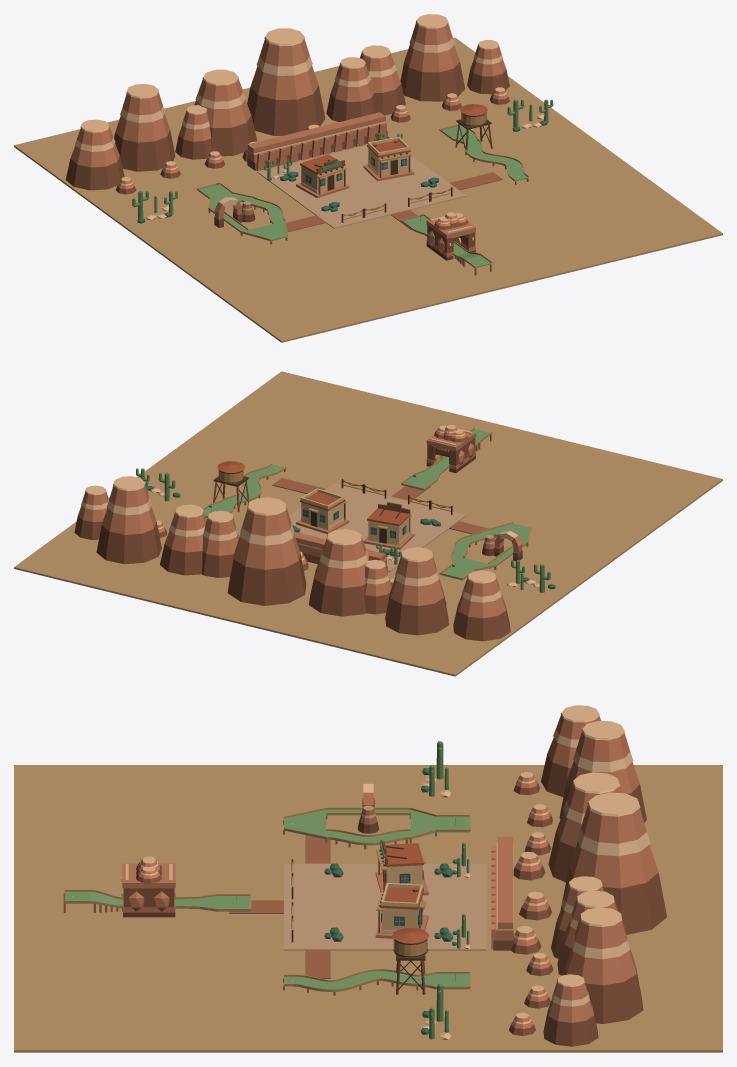
File: district.glb
3 views of the same model, one above another, from view 1: azimuth 30°, elevation 25°; view 2: azimuth 150°, elevation 25°; view 3: azimuth 270°, elevation 25° (orthographic). The views are drawn at different scales.
Visible parts, largest first — view 1: Desert_District_Dressing, DistrictScenery_2__Desert_MesaBackdrop_Standard, DistrictScenery_3__Desert_MesaBackdrop_Standard, DistrictScenery_4__Desert_MesaBackdrop_Standard, DistrictScenery_1__Desert_AdobeHouse_Standard, DistrictScenery_0__Desert_Saloon_Standard, CanyonFork__Desert_CanyonFork_Surface, DistrictScenery_7__Desert_CanyonWall_Standard, DistrictScenery_8__Desert_CanyonWall_Standard, DistrictScenery_9__Desert_CanyonWall_Standard, WaterTowerSwitchback__Desert_WaterTowerSwitchback_FloorColli, WaterTowerSwitchback_0__Desert_WaterTowerGate_Standard (+6 smaller); view 2: Desert_District_Dressing, DistrictScenery_2__Desert_MesaBackdrop_Standard, DistrictScenery_3__Desert_MesaBackdrop_Standard, DistrictScenery_4__Desert_MesaBackdrop_Standard, DistrictScenery_0__Desert_Saloon_Standard, DistrictScenery_1__Desert_AdobeHouse_Standard, CanyonFork__Desert_CanyonFork_Surface, WaterTowerSwitchback__Desert_WaterTowerSwitchback_FloorColli, WaterTowerSwitchback_0__Desert_WaterTowerGate_Standard, MinecartPassage_1__Desert_MineRoof_Standard, MinecartPassage__Desert_MinecartPassage_Surface, MinecartPassage_0__Desert_MinePassage_Standard (+4 smaller); view 3: Desert_District_Dressing, DistrictScenery_2__Desert_MesaBackdrop_Standard, DistrictScenery_4__Desert_MesaBackdrop_Standard, DistrictScenery_3__Desert_MesaBackdrop_Standard, CanyonFork__Desert_CanyonFork_Surface, DistrictScenery_1__Desert_AdobeHouse_Standard, WaterTowerSwitchback__Desert_WaterTowerSwitchback_FloorColli, DistrictScenery_0__Desert_Saloon_Standard, MinecartPassage__Desert_MinecartPassage_Surface, CanyonFork__Desert_CanyonFork_Rails, MinecartPassage_1__Desert_MineRoof_Standard, WaterTowerSwitchback_0__Desert_WaterTowerGate_Standard (+8 smaller).
Part boxes in pixels (x1,y1,x2,y2): Desert_District_Dressing: (14, 37, 722, 342); DistrictScenery_2__Desert_MesaBackdrop_Standard: (194, 28, 376, 161); DistrictScenery_3__Desert_MesaBackdrop_Standard: (65, 84, 224, 194); DistrictScenery_4__Desert_MesaBackdrop_Standard: (360, 14, 509, 122); DistrictScenery_1__Desert_AdobeHouse_Standard: (363, 137, 414, 181); DistrictScenery_0__Desert_Saloon_Standard: (296, 154, 349, 198); CanyonFork__Desert_CanyonFork_Surface: (198, 184, 287, 241); DistrictScenery_7__Desert_CanyonWall_Standard: (247, 133, 299, 170); DistrictScenery_8__Desert_CanyonWall_Standard: (292, 123, 343, 160); DistrictScenery_9__Desert_CanyonWall_Standard: (336, 112, 387, 149); WaterTowerSwitchback__Desert_WaterTowerSwitchback_FloorColli: (441, 125, 528, 181); WaterTowerSwitchback_0__Desert_WaterTowerGate_Standard: (455, 104, 492, 155); Desert_District_Dressing: (14, 371, 722, 676); DistrictScenery_2__Desert_MesaBackdrop_Standard: (201, 497, 369, 616); DistrictScenery_3__Desert_MesaBackdrop_Standard: (364, 547, 510, 641); DistrictScenery_4__Desert_MesaBackdrop_Standard: (74, 476, 206, 575); DistrictScenery_0__Desert_Saloon_Standard: (363, 502, 414, 549); DistrictScenery_1__Desert_AdobeHouse_Standard: (296, 488, 349, 534); CanyonFork__Desert_CanyonFork_Surface: (440, 523, 529, 580); WaterTowerSwitchback__Desert_WaterTowerSwitchback_FloorColli: (203, 464, 285, 517); WaterTowerSwitchback_0__Desert_WaterTowerGate_Standard: (213, 461, 249, 512); MinecartPassage_1__Desert_MineRoof_Standard: (426, 424, 475, 451); MinecartPassage__Desert_MinecartPassage_Surface: (402, 429, 490, 490); MinecartPassage_0__Desert_MinePassage_Standard: (426, 438, 475, 469); Desert_District_Dressing: (14, 765, 722, 1052); DistrictScenery_2__Desert_MesaBackdrop_Standard: (510, 772, 666, 958); DistrictScenery_4__Desert_MesaBackdrop_Standard: (509, 890, 643, 1046); DistrictScenery_3__Desert_MesaBackdrop_Standard: (513, 705, 646, 855); CanyonFork__Desert_CanyonFork_Surface: (284, 809, 469, 845); DistrictScenery_1__Desert_AdobeHouse_Standard: (375, 883, 428, 938); WaterTowerSwitchback__Desert_WaterTowerSwitchback_FloorColli: (284, 971, 469, 991); DistrictScenery_0__Desert_Saloon_Standard: (375, 840, 428, 895); MinecartPassage__Desert_MinecartPassage_Surface: (64, 891, 250, 911); CanyonFork__Desert_CanyonFork_Rails: (284, 807, 470, 844); MinecartPassage_1__Desert_MineRoof_Standard: (122, 856, 175, 888); WaterTowerSwitchback_0__Desert_WaterTowerGate_Standard: (392, 928, 429, 994).
Size of what is drawn, in the model's own units: 80 by 14.7 by 84.
